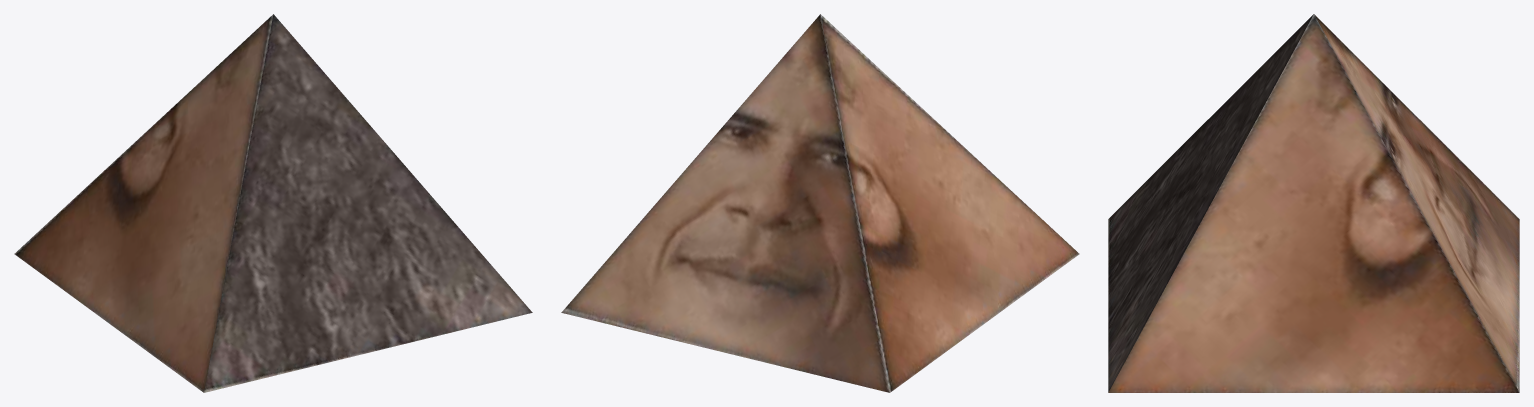
File: obama_prism.glb
3 renders of one model, left to right at view 1: azimuth 30°, elevation 25°; view 2: azimuth 150°, elevation 25°; view 3: azimuth 270°, elevation 25°, orthographic. The views are drawn at different scales.
Parts seen in each view (by area): view 1: Object_2; view 2: Object_2; view 3: Object_2.
Part boxes in pixels (x1=…): Object_2: x1=14, y1=14, x2=532, y2=392; Object_2: x1=561, y1=14, x2=1079, y2=392; Object_2: x1=1108, y1=14, x2=1519, y2=392.
Size of the model in its own units: 2.57 by 2.01 by 2.57.
1 material, 1 textured.
